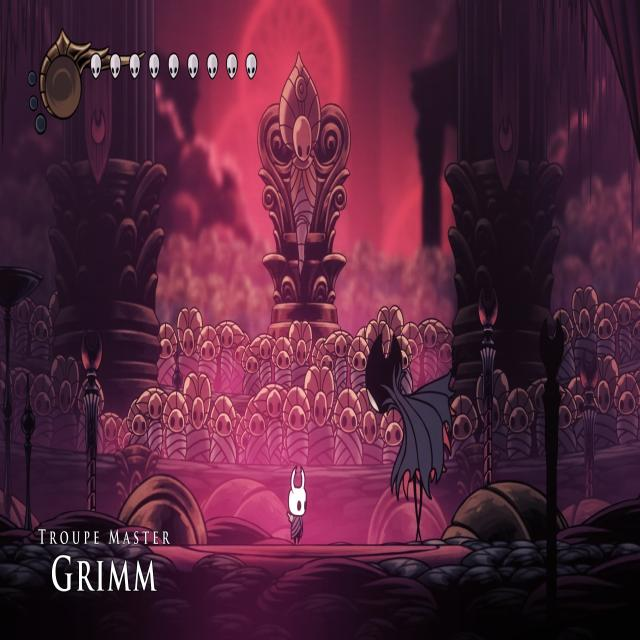Grimm: (363, 312, 459, 552)
Player: (284, 463, 308, 543)
